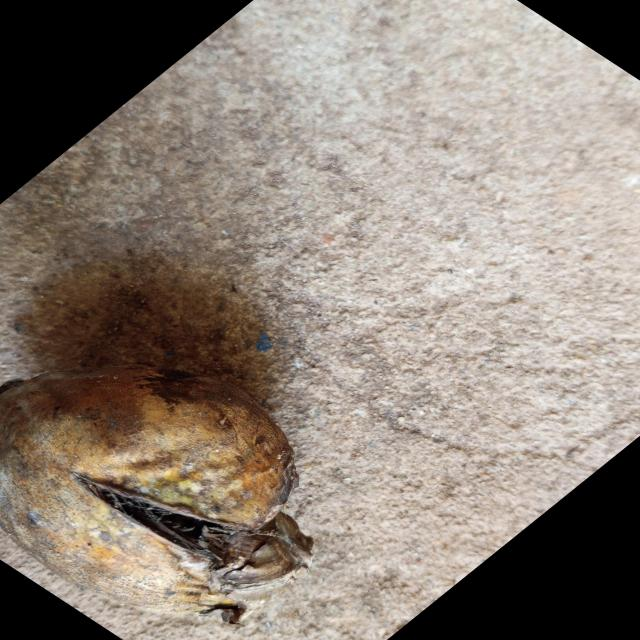damaged: (0, 365, 313, 624)
